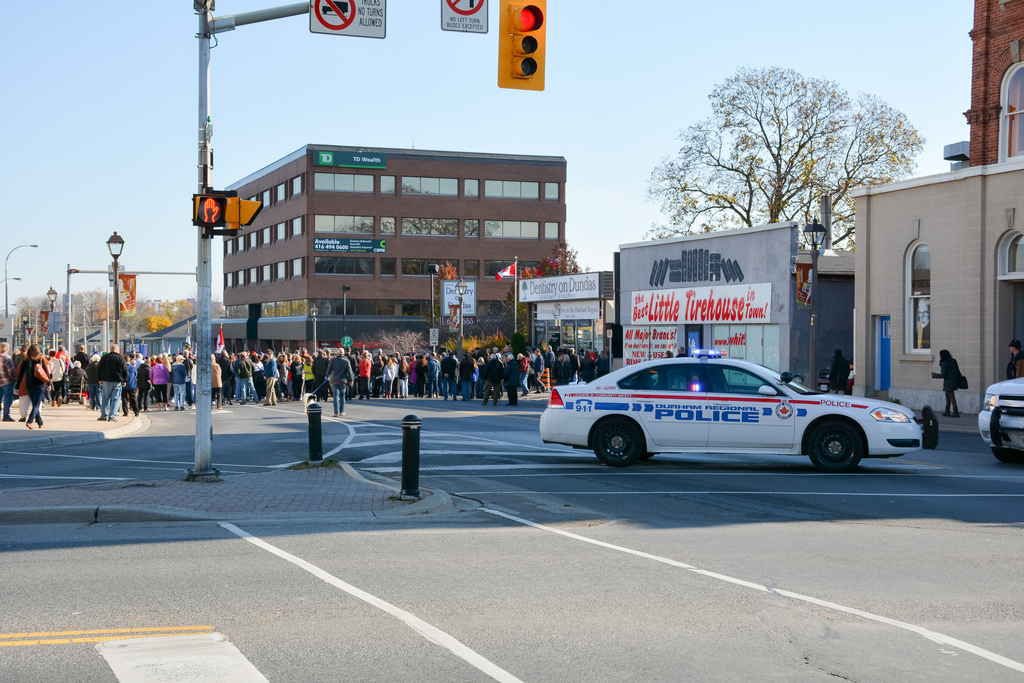no_trucks: (310, 1, 361, 34)
red_light: (518, 5, 545, 33)
